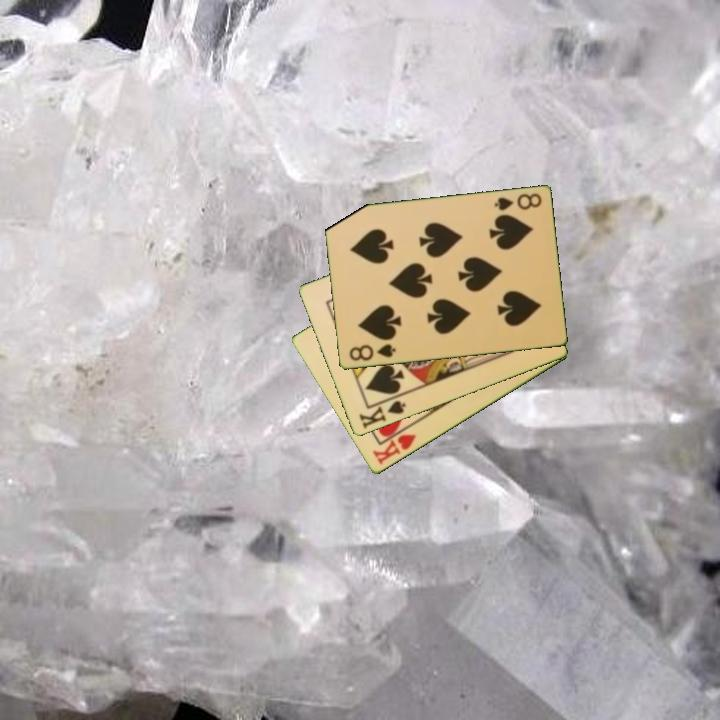8s: (491, 190, 544, 214), (345, 341, 398, 364)
Kh: (369, 422, 419, 468)
Ks: (355, 397, 409, 432)
